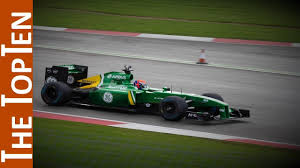f1_car: (37, 59, 261, 132)
